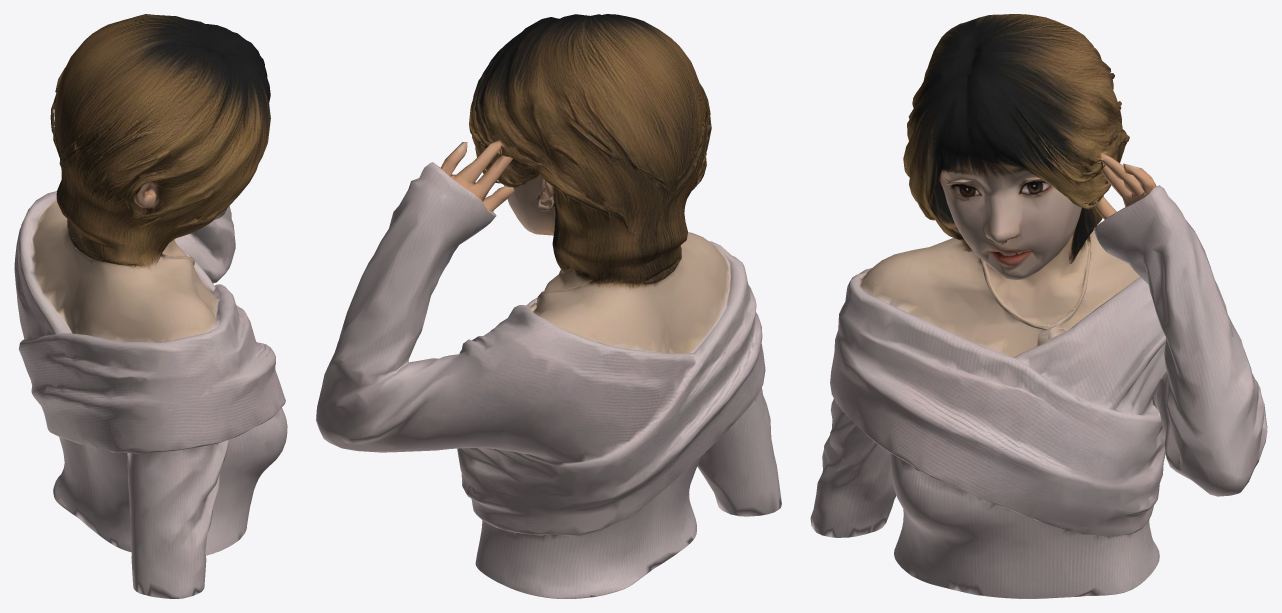
File: supporter-042.glb
The picture shows the model from 3 angles, left to right: view 1: azimuth 30°, elevation 25°; view 2: azimuth 150°, elevation 25°; view 3: azimuth 270°, elevation 25°; orthographic projection. The views are drawn at different scales.
Visible parts, largest first — view 1: tripo_node_40007c98-001e-4076-b879-9c3710794031; view 2: tripo_node_40007c98-001e-4076-b879-9c3710794031; view 3: tripo_node_40007c98-001e-4076-b879-9c3710794031.
Part boxes in pixels (<box>): tripo_node_40007c98-001e-4076-b879-9c3710794031: <box>14,14,287,598</box>; tripo_node_40007c98-001e-4076-b879-9c3710794031: <box>316,14,781,598</box>; tripo_node_40007c98-001e-4076-b879-9c3710794031: <box>810,14,1267,598</box>.
Size of the model in its own units: 0.9738 by 1.65 by 1.28.
1 material, 1 textured.
